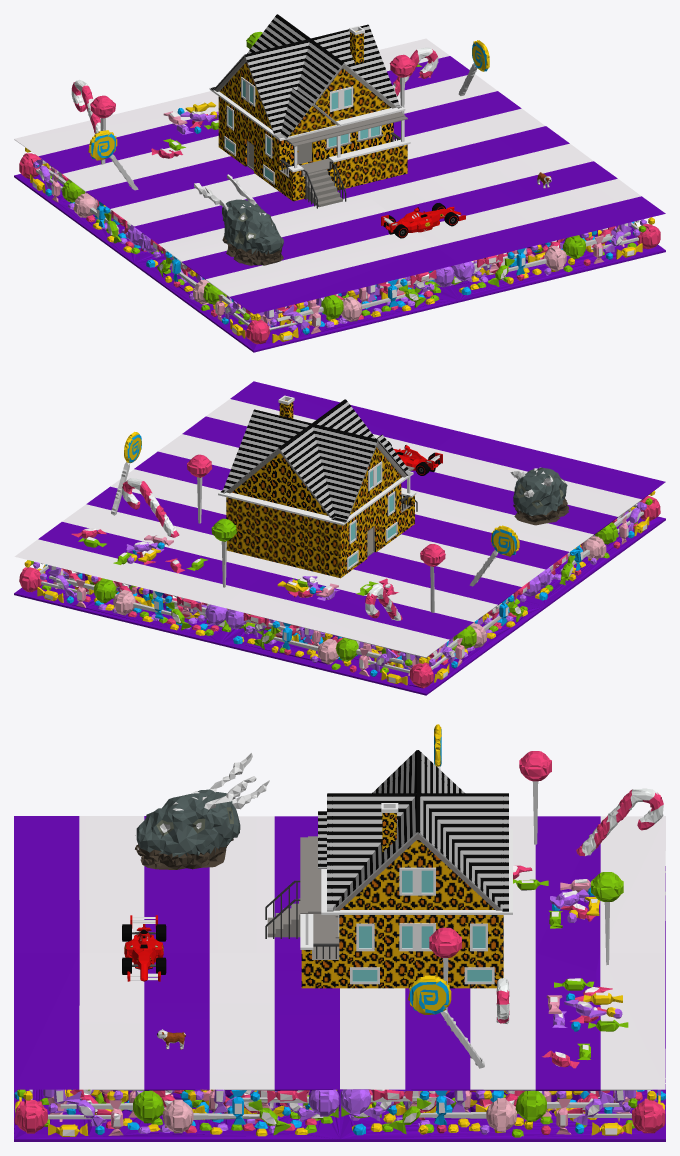
3 views of the same model, one above another, from view 1: azimuth 30°, elevation 25°; view 2: azimuth 150°, elevation 25°; view 3: azimuth 270°, elevation 25° (orthographic). The views are drawn at different scales.
Parts seen in each view (by area): view 1: TERRAIN_CANDY, Cube.637, OBJRANDOM_METEORITE, VEHICLES_FORMULA_1; view 2: TERRAIN_CANDY, Cube.637, OBJRANDOM_METEORITE, VEHICLES_FORMULA_1; view 3: TERRAIN_CANDY, Cube.637, OBJRANDOM_METEORITE, VEHICLES_FORMULA_1.
Part boxes in pixels (x1=…): TERRAIN_CANDY: x1=14, y1=31, x2=665, y2=352; Cube.637: x1=209, y1=14, x2=410, y2=208; OBJRANDOM_METEORITE: x1=194, y1=174, x2=283, y2=265; VEHICLES_FORMULA_1: x1=381, y1=203, x2=465, y2=238; TERRAIN_CANDY: x1=14, y1=381, x2=665, y2=695; Cube.637: x1=218, y1=395, x2=417, y2=578; OBJRANDOM_METEORITE: x1=510, y1=467, x2=568, y2=525; VEHICLES_FORMULA_1: x1=387, y1=441, x2=442, y2=475; TERRAIN_CANDY: x1=14, y1=724, x2=665, y2=1141; Cube.637: x1=265, y1=750, x2=512, y2=988; OBJRANDOM_METEORITE: x1=135, y1=753, x2=269, y2=869; VEHICLES_FORMULA_1: x1=122, y1=915, x2=166, y2=981.
Size of the model in its own units: 4059 by 1607 by 4000.
32 materials, 4 textured.
